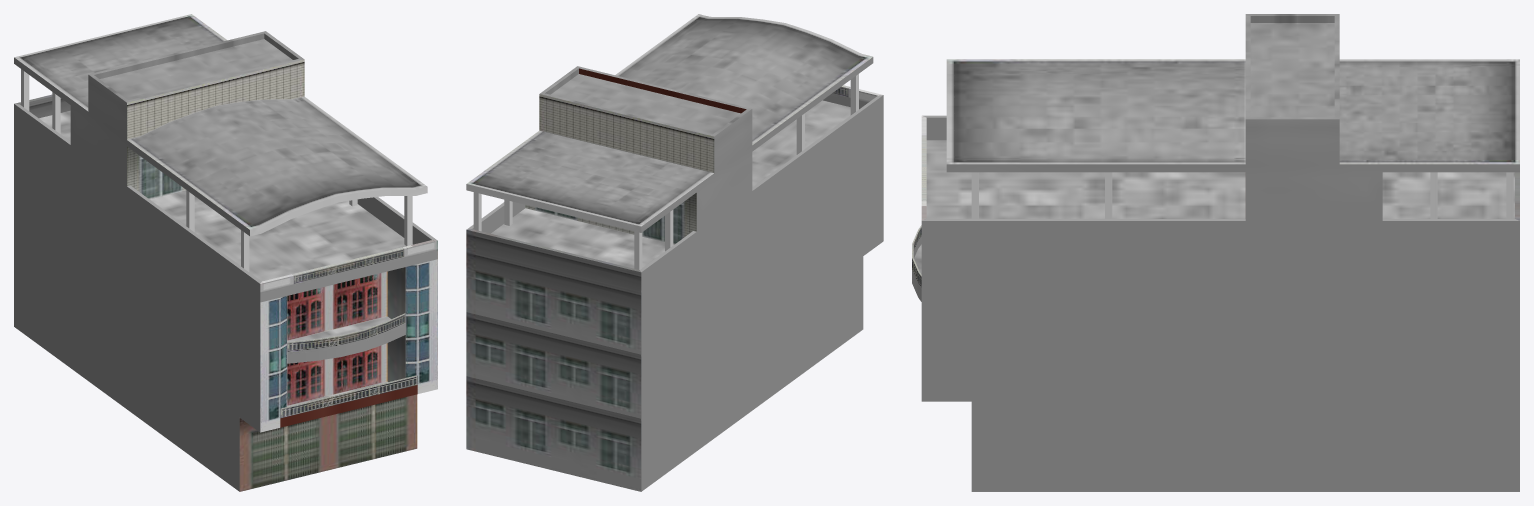
3 views of the same model, side by side, from view 1: azimuth 30°, elevation 25°; view 2: azimuth 150°, elevation 25°; view 3: azimuth 270°, elevation 25° (orthographic). The views are drawn at different scales.
Parts seen in each view (by area): view 1: 5da3de5fcf1bfa0548c67667.001; view 2: 5da3de5fcf1bfa0548c67667.001; view 3: 5da3de5fcf1bfa0548c67667.001.
Boxes of the visible parts, x1,y1,x2,y2 form: 5da3de5fcf1bfa0548c67667.001: (14, 14, 437, 491); 5da3de5fcf1bfa0548c67667.001: (466, 14, 883, 491); 5da3de5fcf1bfa0548c67667.001: (912, 14, 1519, 491).
Bounding box in the file's own units: 10 × 16.5 × 24.39.
Materials: 1 (1 with a texture image).
